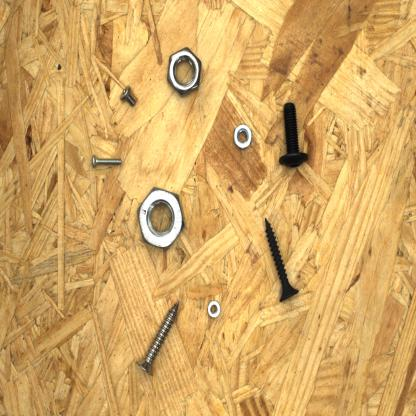screw: (133, 299, 181, 378), (264, 217, 300, 305), (277, 100, 311, 174), (90, 153, 124, 168), (119, 82, 139, 107)
